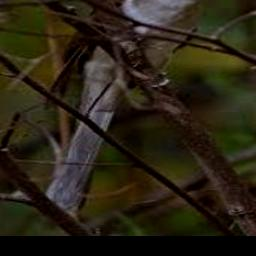Cuckoo: (41, 0, 239, 207)
